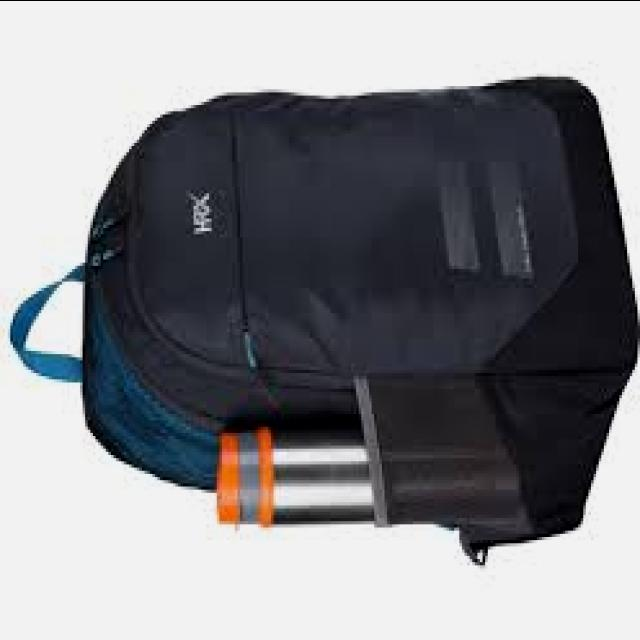backpack: (9, 77, 639, 569)
